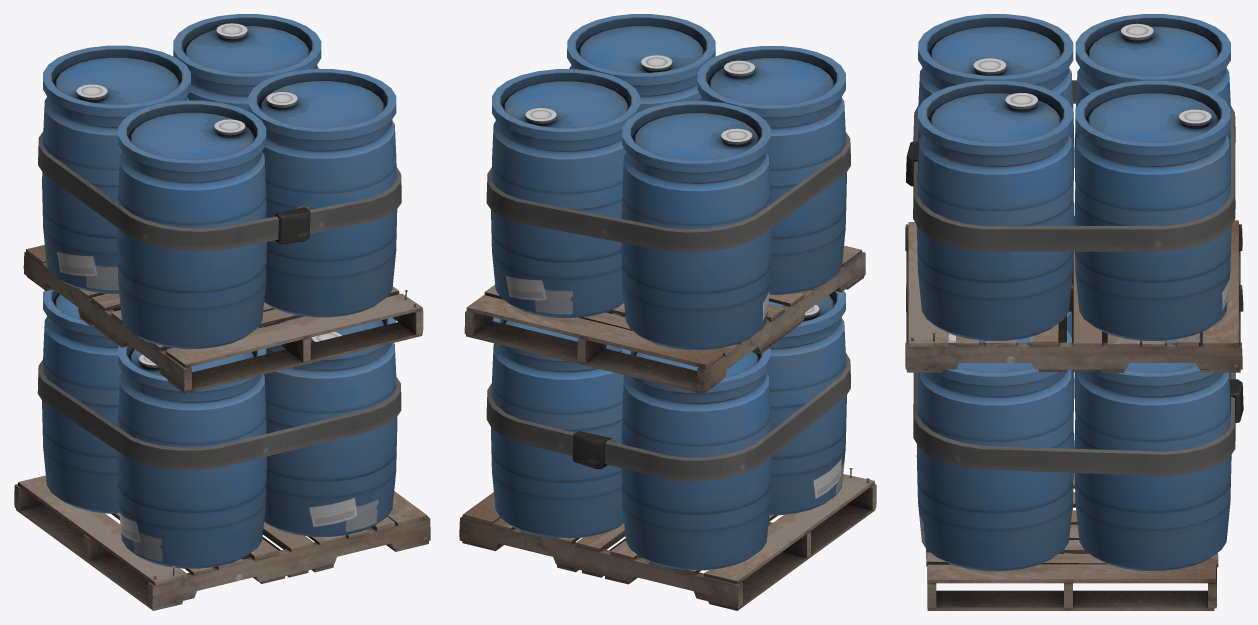
File: water_barrel_cluster.glb
3 renders of one model, left to right at view 1: azimuth 30°, elevation 25°; view 2: azimuth 150°, elevation 25°; view 3: azimuth 270°, elevation 25°, orthographic. The views are drawn at different scales.
Parts seen in each view (by area): view 1: water_barrel_cluster; view 2: water_barrel_cluster; view 3: water_barrel_cluster.
Part boxes in pixels (left/top/right/bottom): water_barrel_cluster: left=14, top=14, right=430, bottom=610; water_barrel_cluster: left=459, top=14, right=876, bottom=610; water_barrel_cluster: left=905, top=14, right=1243, bottom=610.
Bounding box in the file's own units: 1.43 × 2.14 × 1.43.
Materials: 2 (2 with a texture image).
